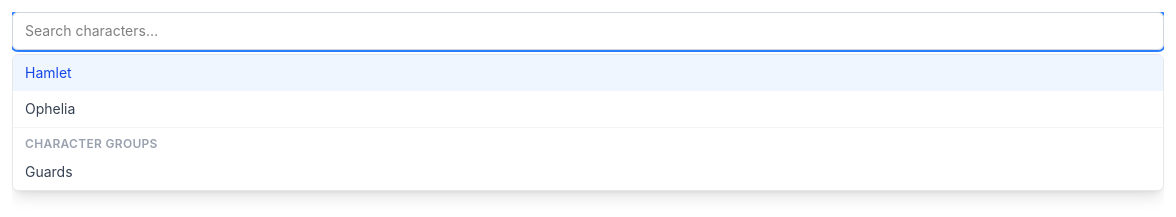
Scenario: CharacterCombobox › filters characters by typed text
Type "ham" into the field with placeholder "Search characters…". click: x=588, y=31
box: left=12, top=12, right=1164, bottom=50
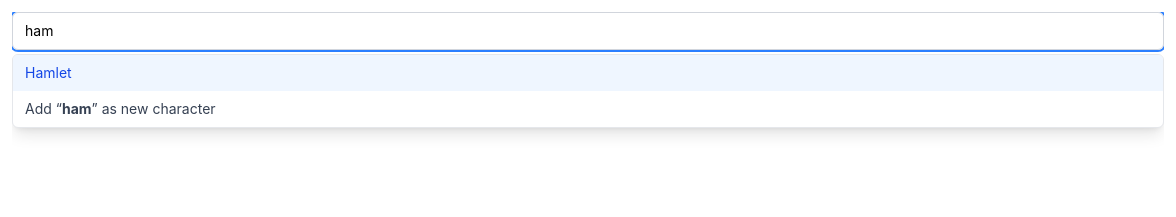
Expected: the list item "Hamlet" is shown, left=13, top=55, right=1163, bottom=91
Expected: the list item "Ophelia" is gone
